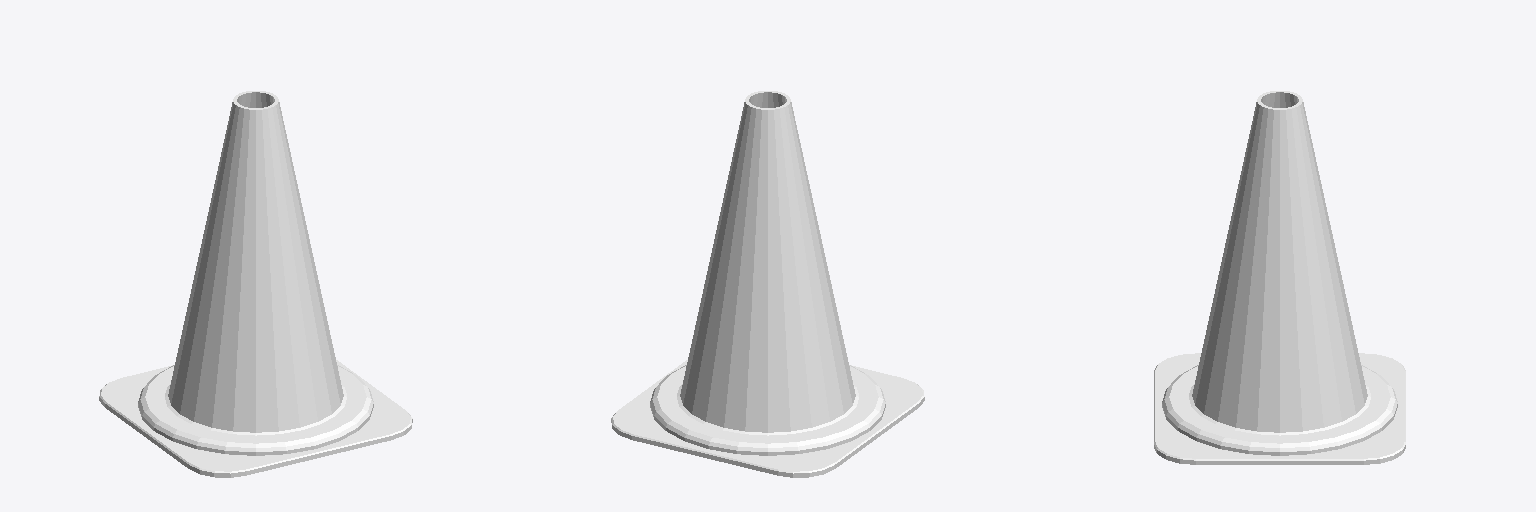
The model's file is absperrhut2.obj.
3 views of the same model, side by side, from view 1: azimuth 30°, elevation 25°; view 2: azimuth 150°, elevation 25°; view 3: azimuth 270°, elevation 25° (orthographic).
Size of the model in its own units: 39.99 by 54.49 by 40.04.